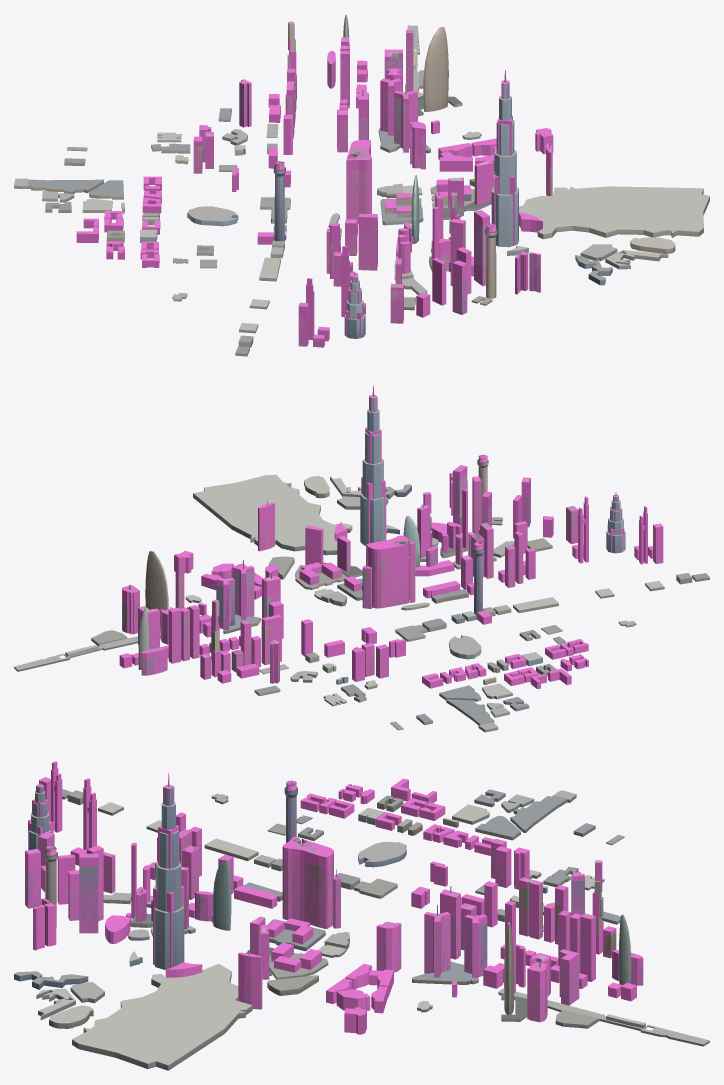
Rendered from bld_12_9.fbx.
3 views of the same model, one above another, from view 1: azimuth 30°, elevation 25°; view 2: azimuth 150°, elevation 25°; view 3: azimuth 270°, elevation 25° (orthographic). The views are drawn at different scales.
Visible parts, largest first — view 1: bld_12_9_LOD0, bld_12_9_COL; view 2: bld_12_9_COL, bld_12_9_LOD0; view 3: bld_12_9_LOD0, bld_12_9_COL.
Part boxes in pixels (x1,y1,x2,y2): bld_12_9_LOD0: (14,15,709,356); bld_12_9_COL: (76,14,553,347); bld_12_9_COL: (119,385,663,689); bld_12_9_LOD0: (14,395,709,732); bld_12_9_LOD0: (14,779,709,1070); bld_12_9_COL: (25,761,643,1034).
Size of what is drawn, in the model's own units: 2229 by 700 by 2323.
